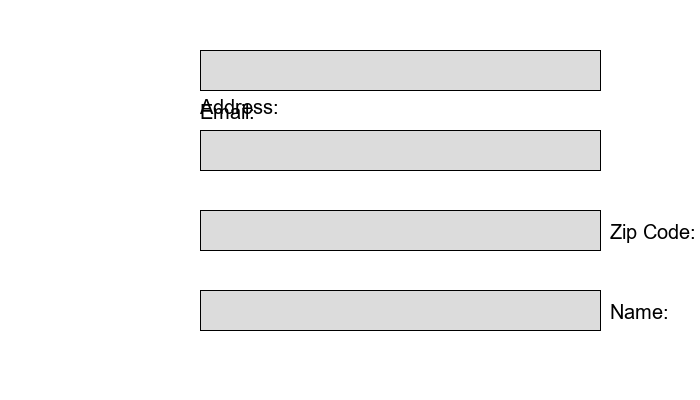Label: (610, 220, 690, 239), (200, 95, 274, 110), (610, 300, 663, 315), (200, 100, 249, 115)
Textbox: (200, 50, 600, 90), (200, 130, 600, 170), (200, 210, 600, 250), (200, 290, 600, 330)
